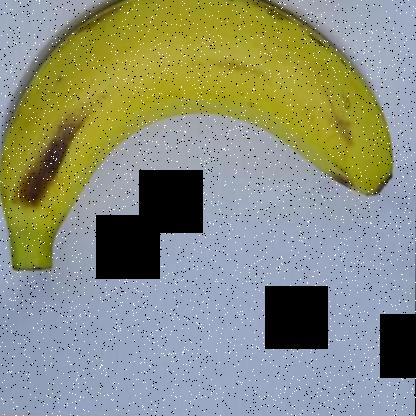freshripe: (1, 1, 405, 284)
